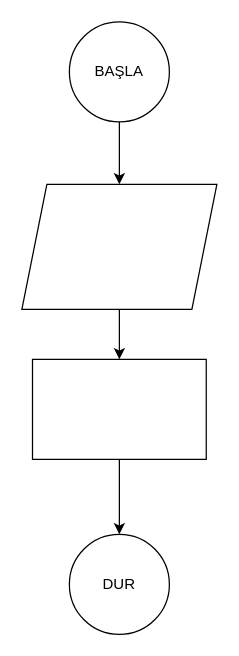
This 239x656 diagram has some shape labels left out. Each missing label, with the box of its shape:
100x, 15x=9 ise 85x=a a=85*9/15= 3*17=51: (31, 358, 206, 459)
fiyat=x, uygulama dan=x-9, x-%15=ücret: (21, 183, 217, 309)
